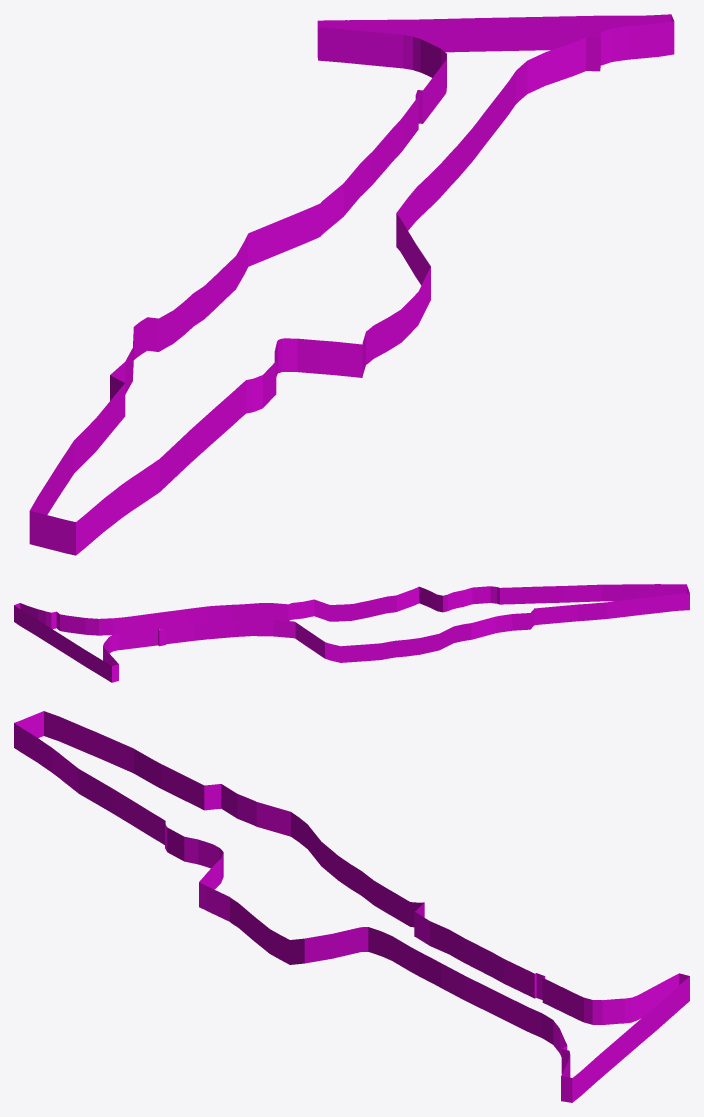
Rendered from sChoGPMB.glb.
3 views of the same model, one above another, from view 1: azimuth 30°, elevation 25°; view 2: azimuth 150°, elevation 25°; view 3: azimuth 270°, elevation 25° (orthographic). The views are drawn at different scales.
Parts seen in each view (by area): view 1: IfcBuildingElementProxy/Unnamed; view 2: IfcBuildingElementProxy/Unnamed; view 3: IfcBuildingElementProxy/Unnamed.
Part boxes in pixels (left/top/right/bottom): IfcBuildingElementProxy/Unnamed: left=29, top=14, right=674, bottom=555; IfcBuildingElementProxy/Unnamed: left=14, top=584, right=689, bottom=682; IfcBuildingElementProxy/Unnamed: left=14, top=711, right=689, bottom=1102.
Bounding box in the file's own units: 311 × 21.72 × 246.
